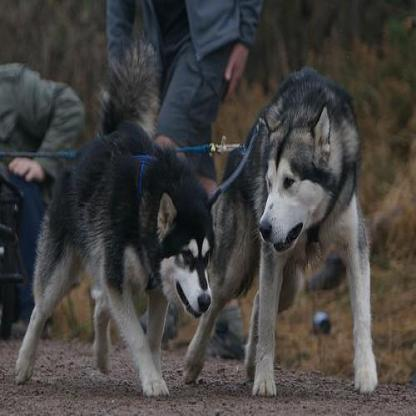malamute: (180, 65, 378, 396), (13, 119, 215, 400)
